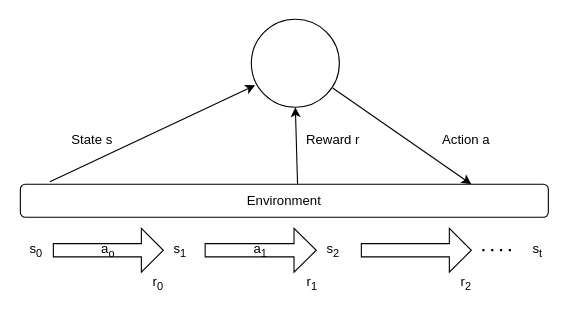
Some shapes in this 568 by 314 pixel diagram are drawn without their labels. The shapes that lost their labels are listed below. From the top down, each one's box as (x1, y1, x2, y2) in pixels, then its label:
(250, 18, 339, 107): Agent
(360, 227, 471, 272): a 2
